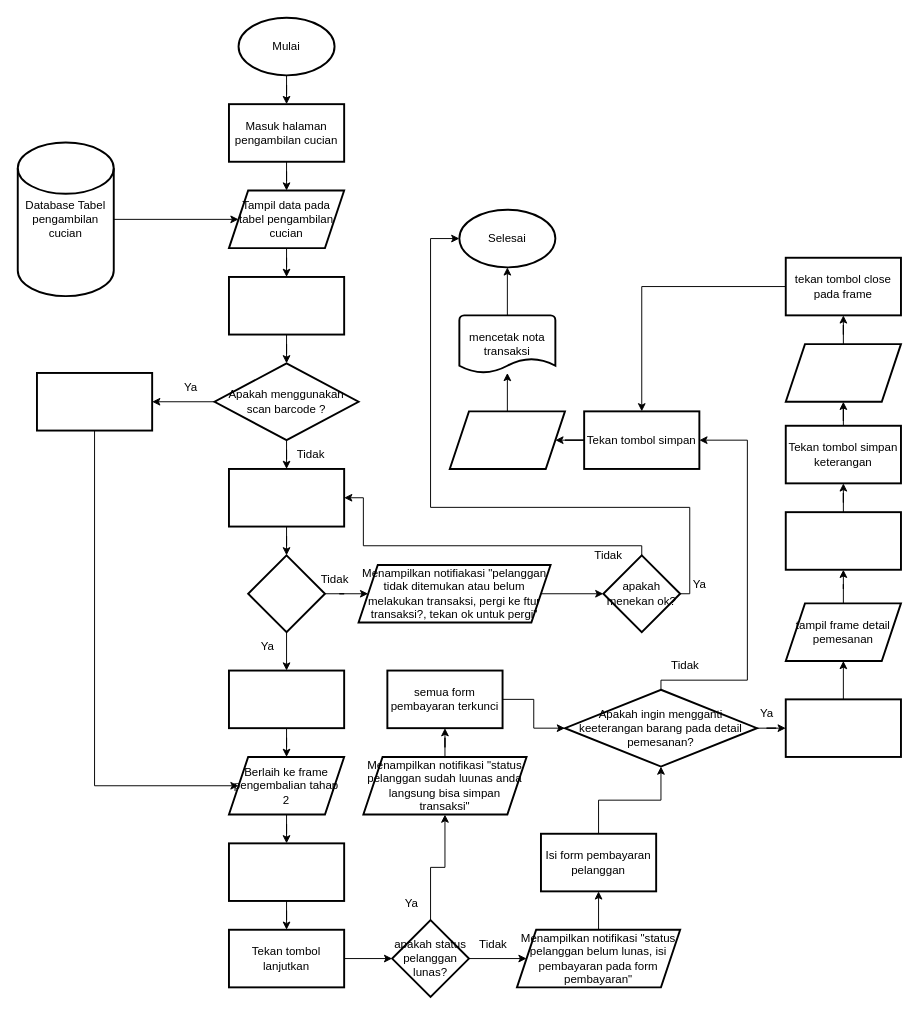
The diagram is 918 pixels wide and 1014 high, and some of its shapes have lost their labels. Here are the shapes that lost their labels. From the top down, the centre of each, then its label:
[286,305]: Mencari data pada tabel
[842,372]: tampil notifikasi "keterangan berhasil diubah"
[94,401]: Scan barqode pada nota
[506,439]: tampil notifikasi "data berhasil di edit"
[286,497]: Cari data pada field cari berdassarkan kode transaksi / nama pelanggan
[842,540]: pilih data paket cucian pada tabel dan isi keterangan pada field keterangan
[286,593]: Apakah data tersedia?
[286,699]: tekan data pada tabel dan tekan tombol lakukan pengembalian
[842,727]: Tekan tombol detail pemesanan
[286,871]: atur status pelanggan menjadi "sudah di ambil/belum di ambil"
